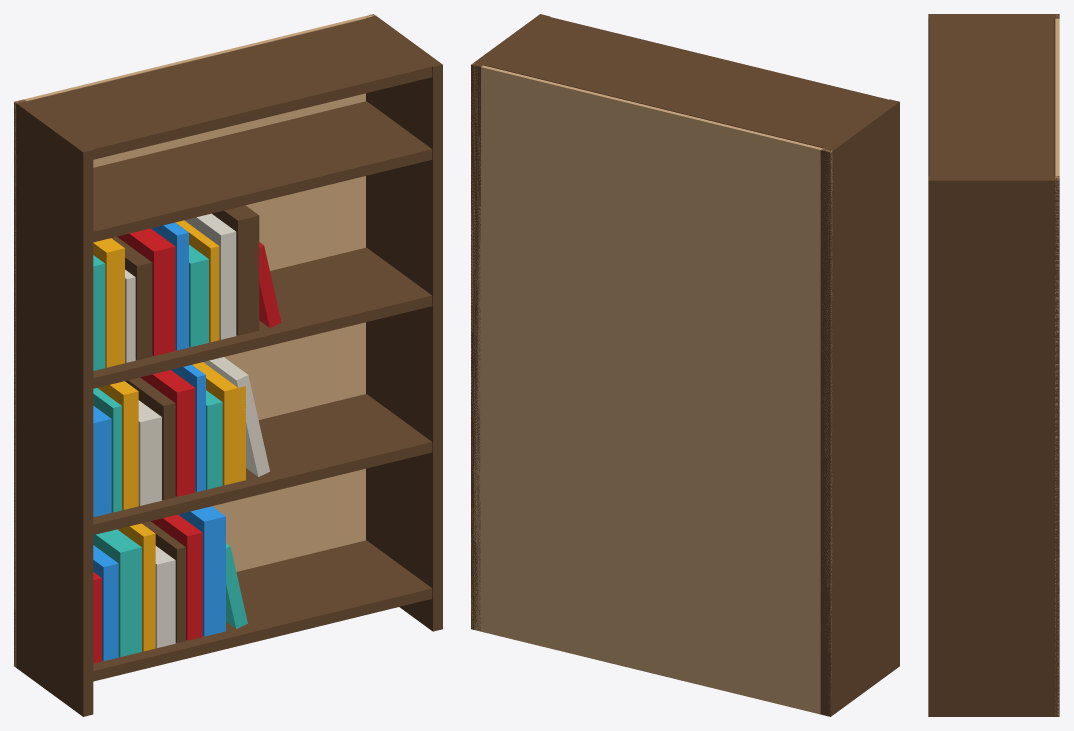
File: sch-006.glb
3 views of the same model, side by side, from view 1: azimuth 30°, elevation 25°; view 2: azimuth 150°, elevation 25°; view 3: azimuth 270°, elevation 25° (orthographic). The views are drawn at different scales.
Parts seen in each view (by area): view 1: walnut, beech, accent_amber, accent_red, accent_teal, plastic_blue, paper; view 2: beech, walnut; view 3: walnut, beech.
Part boxes in pixels (bbox=[...]): walnut: bbox=[14, 14, 442, 716]; beech: bbox=[14, 14, 375, 667]; accent_amber: bbox=[93, 220, 245, 651]; accent_red: bbox=[93, 228, 281, 663]; accent_teal: bbox=[93, 245, 247, 656]; plastic_blue: bbox=[93, 222, 225, 661]; paper: bbox=[125, 213, 269, 647]; beech: bbox=[471, 63, 832, 714]; walnut: bbox=[471, 14, 899, 716]; walnut: bbox=[928, 14, 1059, 716]; beech: bbox=[1055, 15, 1059, 715].
Bounding box in the file's own units: 0.9 × 1.35 × 0.3.
